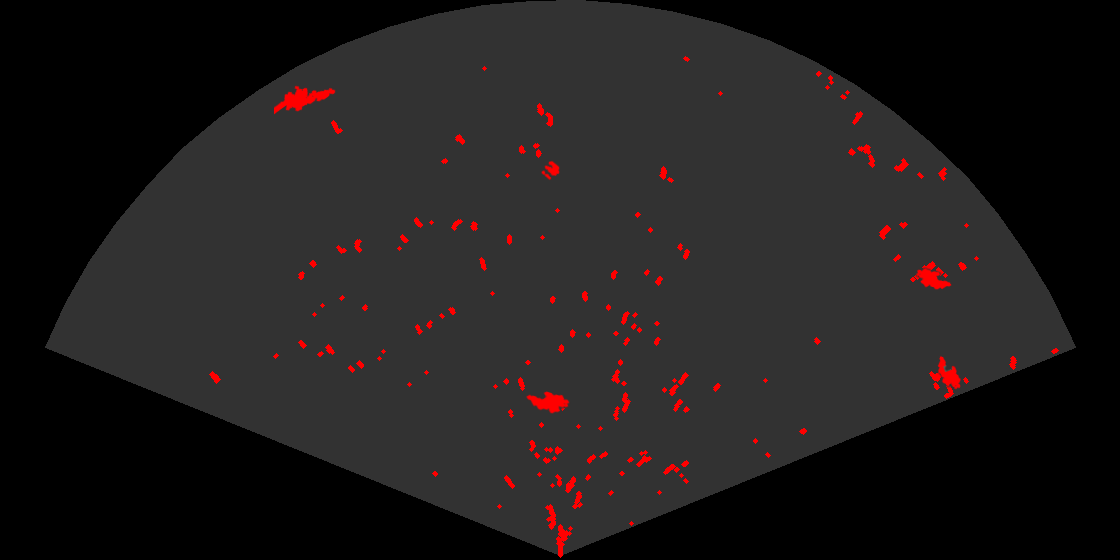AUV: (524, 390, 571, 415), (936, 354, 963, 391), (914, 267, 953, 291)
ball: (540, 159, 561, 182)
frogman: (274, 84, 337, 116)
